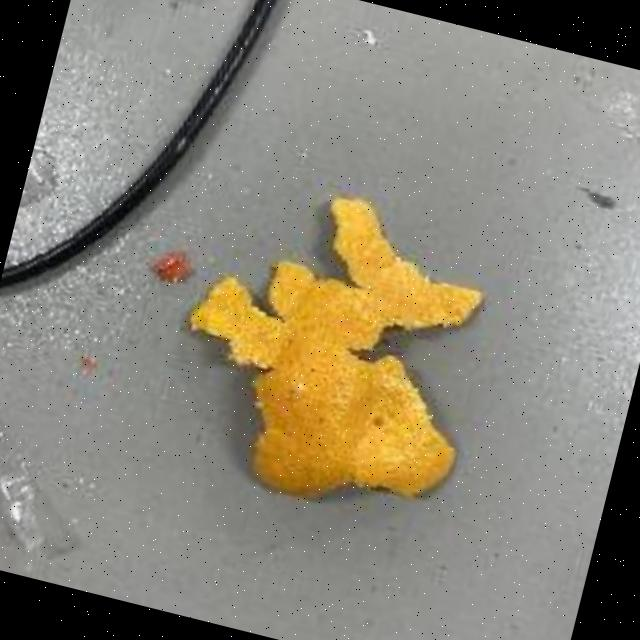orange-peel: (151, 161, 514, 532)
